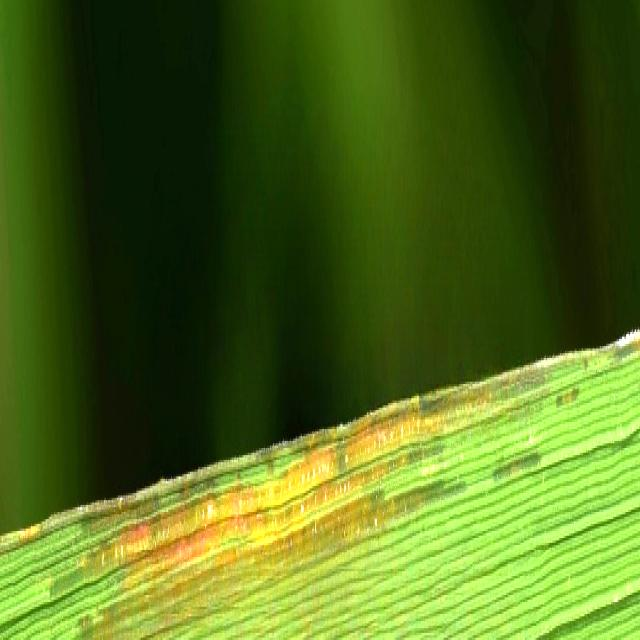BLS: (0, 334, 639, 640), (492, 451, 542, 485), (555, 384, 580, 410)
